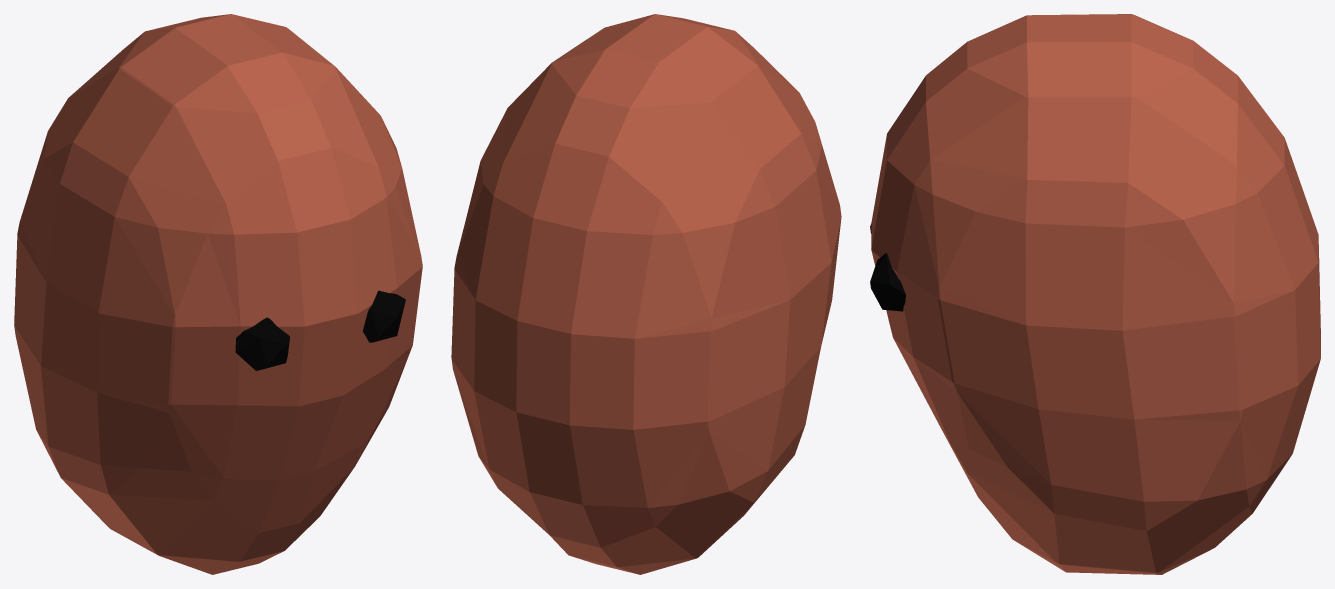
Rendered from SmolPeanut.fbx.
3 renders of one model, left to right at view 1: azimuth 30°, elevation 25°; view 2: azimuth 150°, elevation 25°; view 3: azimuth 270°, elevation 25°, orthographic. The views are drawn at different scales.
Visible parts, largest first — view 1: Mball.003, Sphere.003; view 2: Mball.003; view 3: Mball.003, Sphere.003.
Boxes of the visible parts, left/top/right/bottom form: Mball.003: left=14, top=14, right=422, bottom=574; Sphere.003: left=235, top=290, right=405, bottom=370; Mball.003: left=451, top=14, right=841, bottom=574; Mball.003: left=871, top=14, right=1320, bottom=574; Sphere.003: left=870, top=224, right=905, bottom=311.
Bounding box in the file's own units: 130 × 202 × 155.
